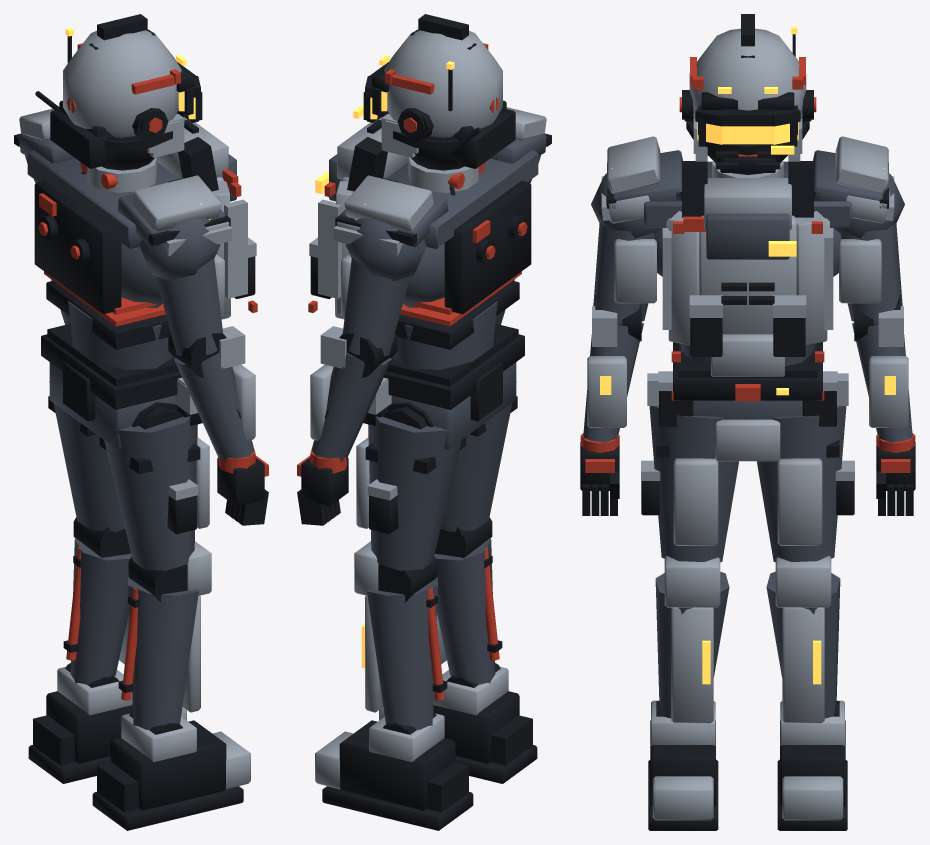
Rendered from soldado_pesado.glb.
3 views of the same model, side by side, from view 1: azimuth 30°, elevation 25°; view 2: azimuth 150°, elevation 25°; view 3: azimuth 270°, elevation 25° (orthographic).
Visible parts, largest first — view 1: mov_pierna_der, mov_torso, mov_pierna_izq, mov_brazo_der, casco_pesado, pelvis, hombreras, peto_pesado, mov_cabeza; view 2: mov_pierna_izq, mov_torso, mov_pierna_der, mov_brazo_izq, casco_pesado, pelvis, hombreras, peto_pesado, mov_cabeza; view 3: peto_pesado, mov_pierna_der, mov_pierna_izq, mov_brazo_der, mov_brazo_izq, casco_pesado, pelvis, hombreras, mov_torso, mov_cabeza.
Boxes of the visible parts, x1=… form: mov_pierna_der: x1=92, y1=402, x2=250, y2=830; mov_torso: x1=27, y1=150, x2=217, y2=386; mov_pierna_izq: x1=28, y1=381, x2=186, y2=783; mov_brazo_der: x1=139, y1=218, x2=268, y2=525; casco_pesado: x1=35, y1=14, x2=202, y2=170; pelvis: x1=41, y1=334, x2=202, y2=449; hombreras: x1=14, y1=108, x2=232, y2=256; peto_pesado: x1=157, y1=117, x2=257, y2=319; mov_cabeza: x1=59, y1=28, x2=193, y2=160; mov_pierna_izq: x1=315, y1=402, x2=473, y2=830; mov_torso: x1=348, y1=150, x2=538, y2=386; mov_pierna_der: x1=379, y1=381, x2=537, y2=783; mov_brazo_izq: x1=297, y1=218, x2=426, y2=525; casco_pesado: x1=353, y1=14, x2=515, y2=170; pelvis: x1=363, y1=334, x2=524, y2=449; hombreras: x1=333, y1=107, x2=551, y2=256; peto_pesado: x1=308, y1=117, x2=408, y2=319; mov_cabeza: x1=372, y1=29, x2=506, y2=160; peto_pesado: x1=662, y1=161, x2=833, y2=376; mov_pierna_der: x1=641, y1=406, x2=738, y2=830; mov_pierna_izq: x1=757, y1=406, x2=854, y2=830; mov_brazo_der: x1=580, y1=173, x2=661, y2=515; mov_brazo_izq: x1=834, y1=173, x2=915, y2=515; casco_pesado: x1=684, y1=14, x2=811, y2=174; pelvis: x1=647, y1=342, x2=848, y2=461; hombreras: x1=601, y1=136, x2=894, y2=220; mov_torso: x1=644, y1=161, x2=851, y2=377; mov_cabeza: x1=679, y1=26, x2=816, y2=161.
Size of the model in its own units: 0.429 by 1.84 by 0.725.
